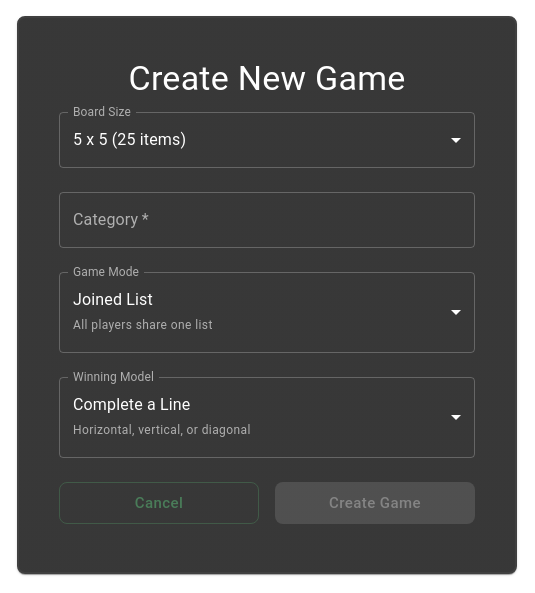
GameCreationForm › Form Interactions › allows changing board size
Press the mouse on the dropdown named "Board Size" at x=130, y=140, box [73, 130, 186, 149]
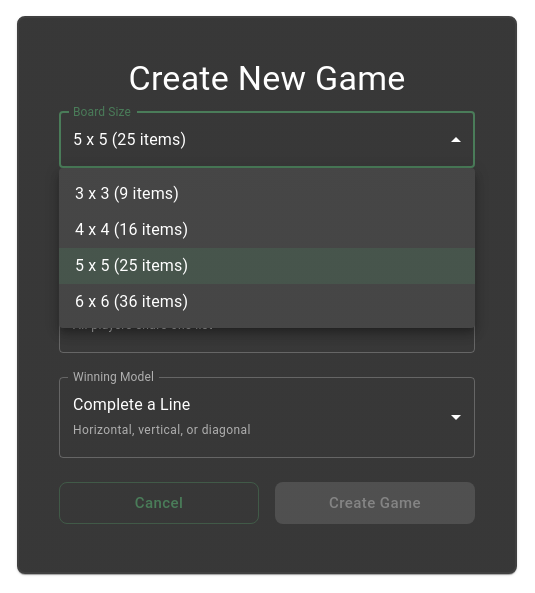
Click the option "3 x 3 (9 items)" at x=127, y=194, box [75, 184, 179, 203]
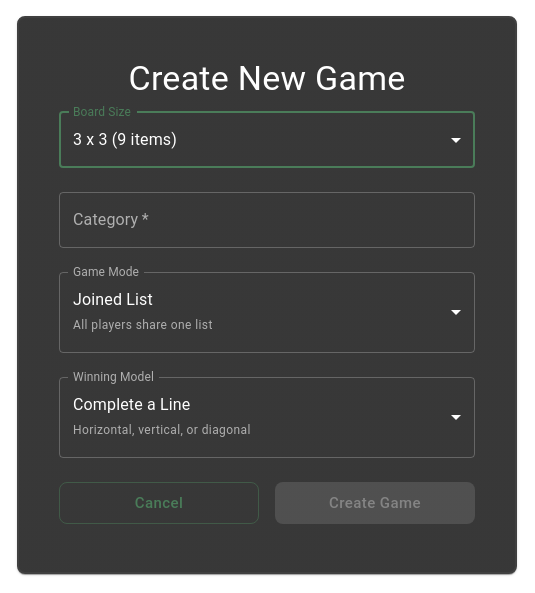
Expected: the element showing "3" is shown, [59, 112, 475, 168]
